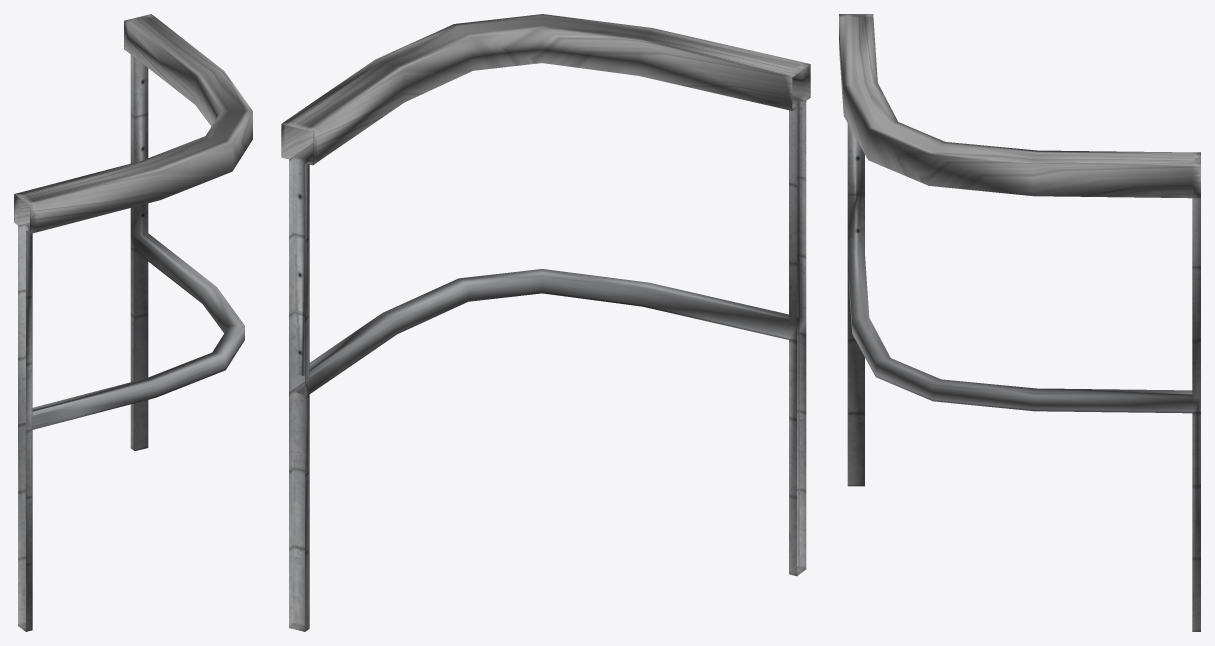
Rendered from HandrailTurn.fbx.
The picture shows the model from 3 angles, left to right: view 1: azimuth 30°, elevation 25°; view 2: azimuth 150°, elevation 25°; view 3: azimuth 270°, elevation 25°; orthographic projection. The views are drawn at different scales.
Visible parts, largest first — view 1: Cube.003; view 2: Cube.003; view 3: Cube.003.
Part boxes in pixels (x1=…): Cube.003: x1=14, y1=14, x2=252, y2=631; Cube.003: x1=281, y1=14, x2=810, y2=631; Cube.003: x1=839, y1=14, x2=1200, y2=631.
Bounding box in the file's own units: 52.5 × 75 × 52.5.
